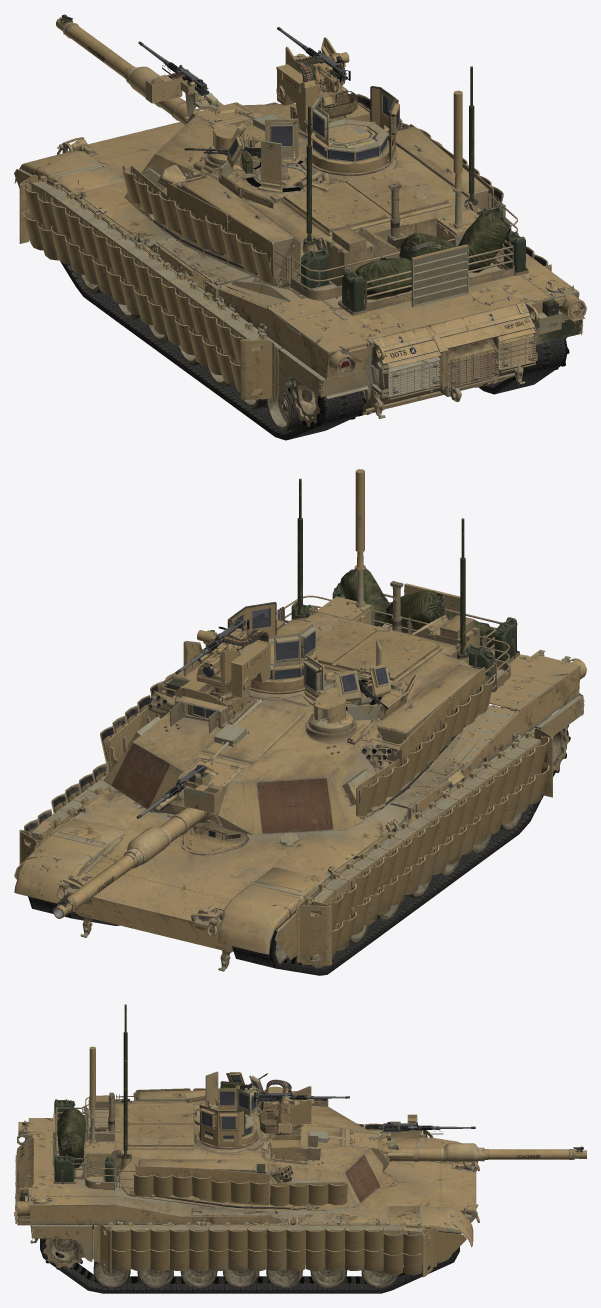
The picture shows the model from 3 angles, top to bottom: view 1: azimuth 30°, elevation 25°; view 2: azimuth 150°, elevation 25°; view 3: azimuth 270°, elevation 25°; orthographic projection. The views are drawn at different scales.
Visible parts, largest first — view 1: V_m1a2dc; view 2: V_m1a2dc; view 3: V_m1a2dc.
Part boxes in pixels (box(x1,y1,x2,y2)): V_m1a2dc: box(14, 14, 586, 440); V_m1a2dc: box(14, 469, 586, 975); V_m1a2dc: box(14, 1004, 586, 1293).
Size of the model in its own units: 12.2 by 11.63 by 27.36.
Materials: 26 (22 with a texture image).
